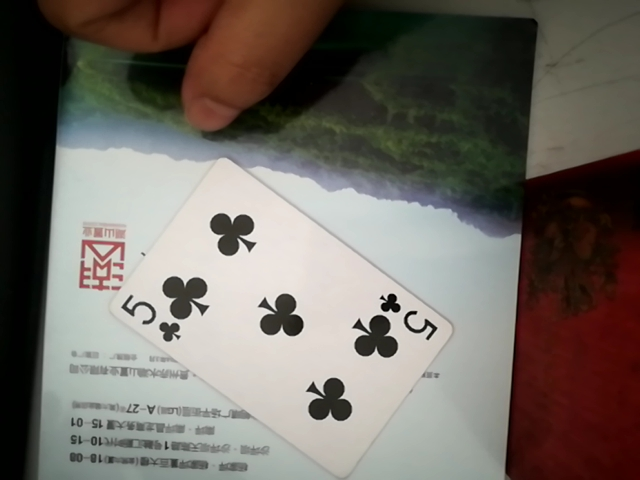mh 5: (78, 138, 450, 470)
